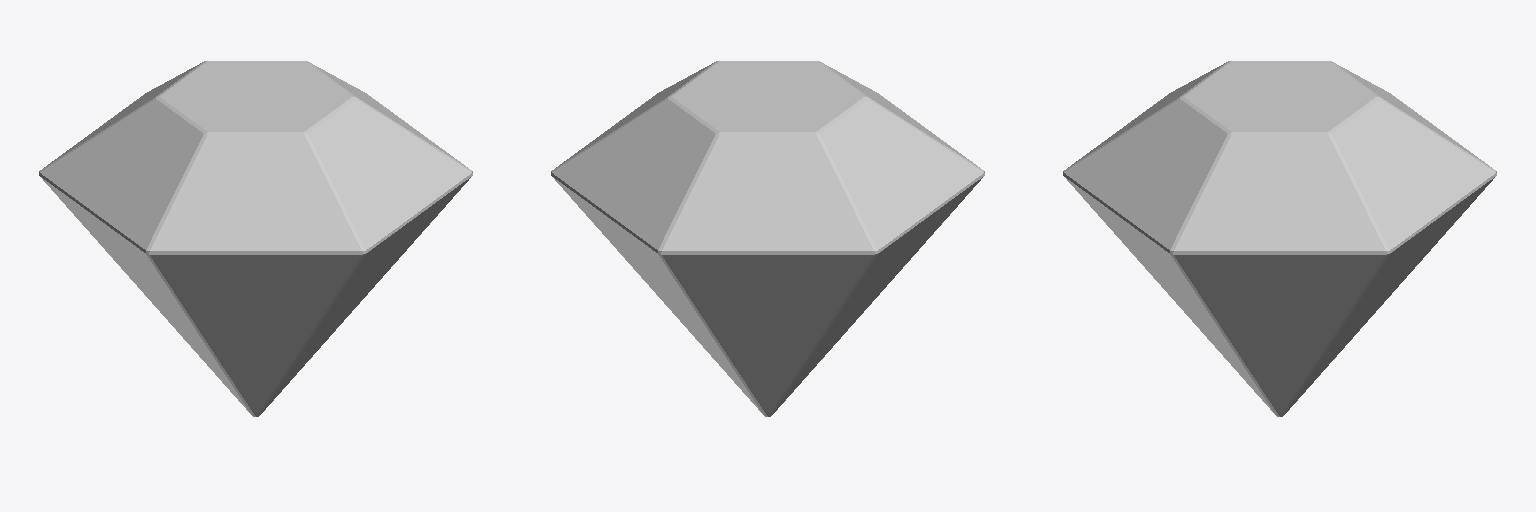
Rendered from 6-table-cut.obj.
3 views of the same model, side by side, from view 1: azimuth 30°, elevation 25°; view 2: azimuth 150°, elevation 25°; view 3: azimuth 270°, elevation 25° (orthographic).
Visible parts, largest first — view 1: gem_Cylinder; view 2: gem_Cylinder; view 3: gem_Cylinder.
Boxes of the visible parts, x1=… form: gem_Cylinder: x1=39, y1=61, x2=472, y2=416; gem_Cylinder: x1=551, y1=61, x2=984, y2=416; gem_Cylinder: x1=1063, y1=61, x2=1496, y2=416.
Size of the model in its own units: 17.21 by 16.03 by 19.76.